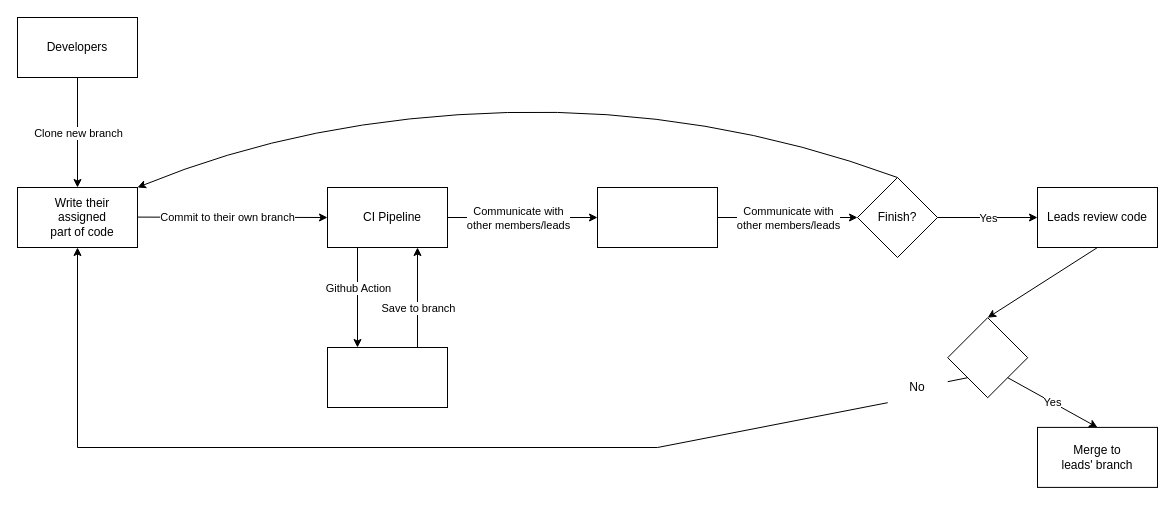
Image size: 1175x505. Some labels were removed from this diagram. The centre of each missing label's shape, as x and y in pixels:
Prettier & Create Pull Request: the point at 387,377
Test basic functions manually: the point at 657,217
Valid?: the point at 987,357
